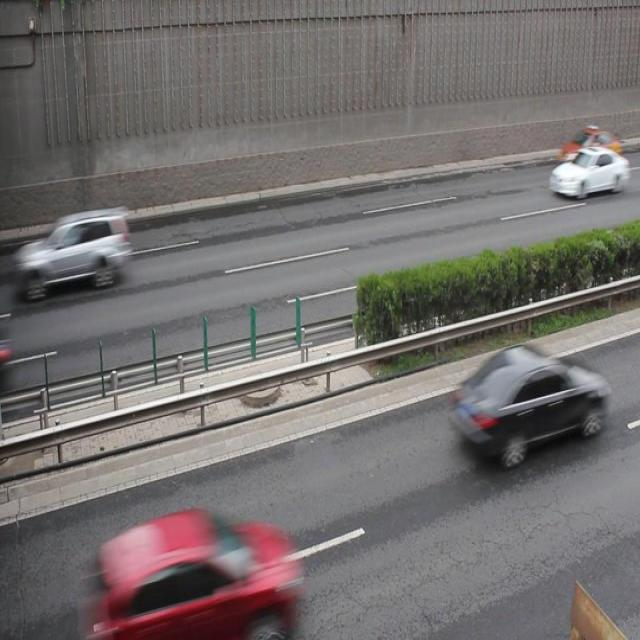car: (89, 513, 294, 640), (451, 342, 597, 466), (35, 210, 129, 292), (547, 148, 623, 202), (558, 125, 620, 167)
